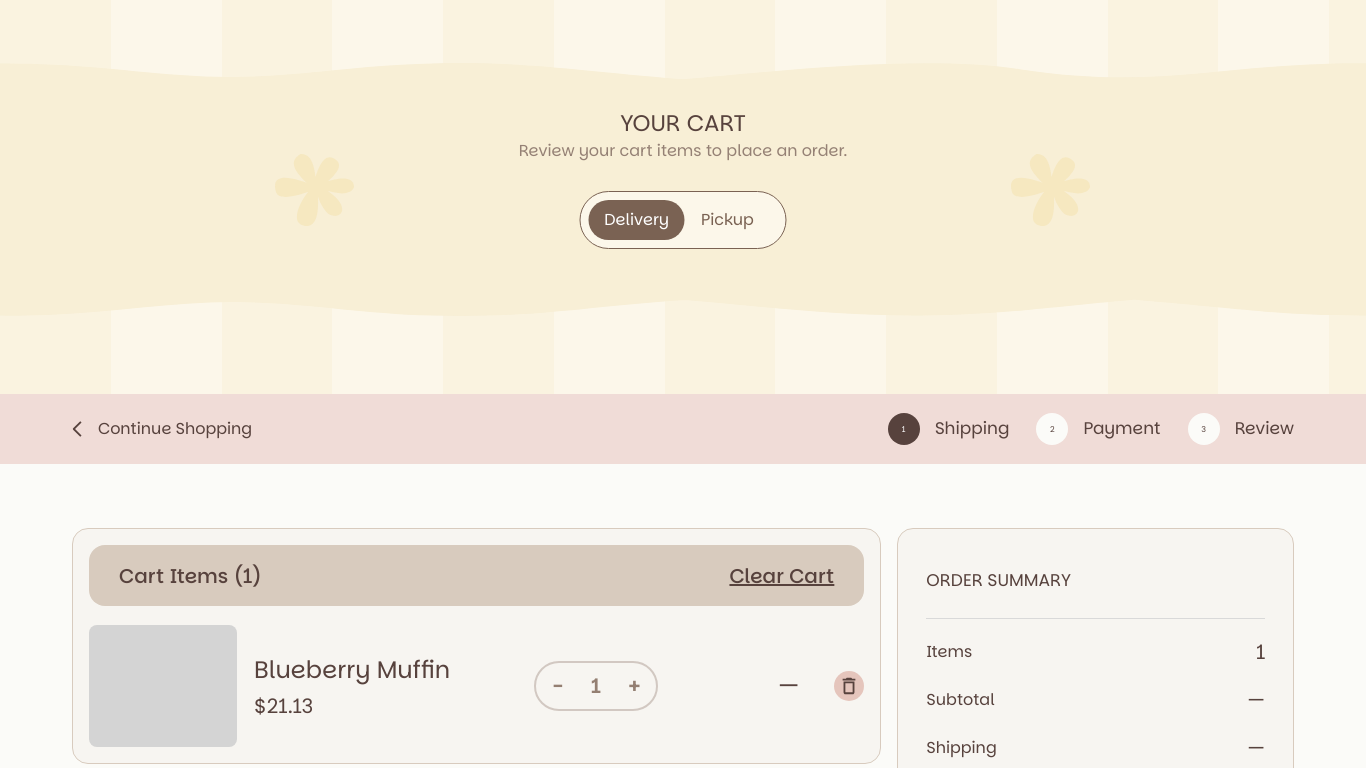
Test: Cart items › decrement at quantity 1 removes the line entirely
Click the button named "Decrease Blueberry Muffin quantity". click: (558, 686)
box: x1=551 y1=671 x2=564 y2=701
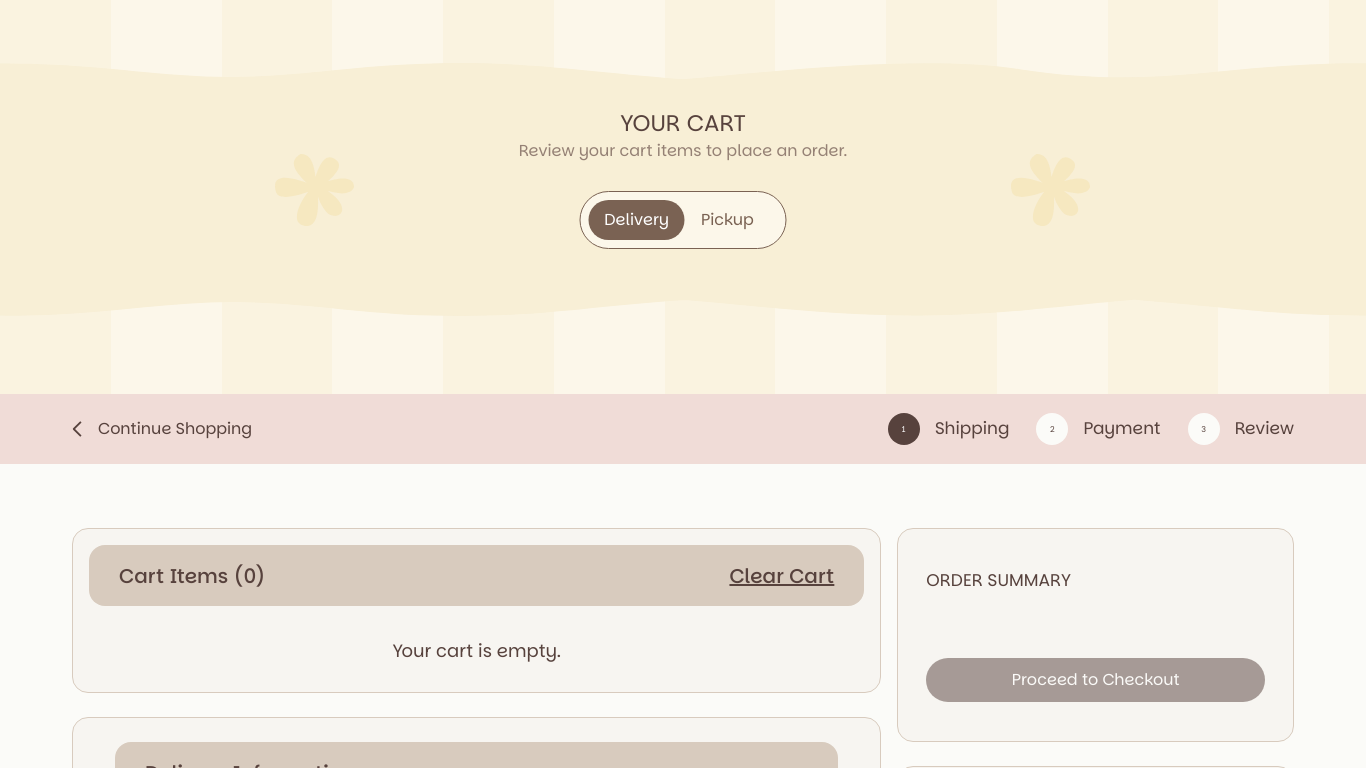
expect the text "Blueberry Muffin" is gone: met
